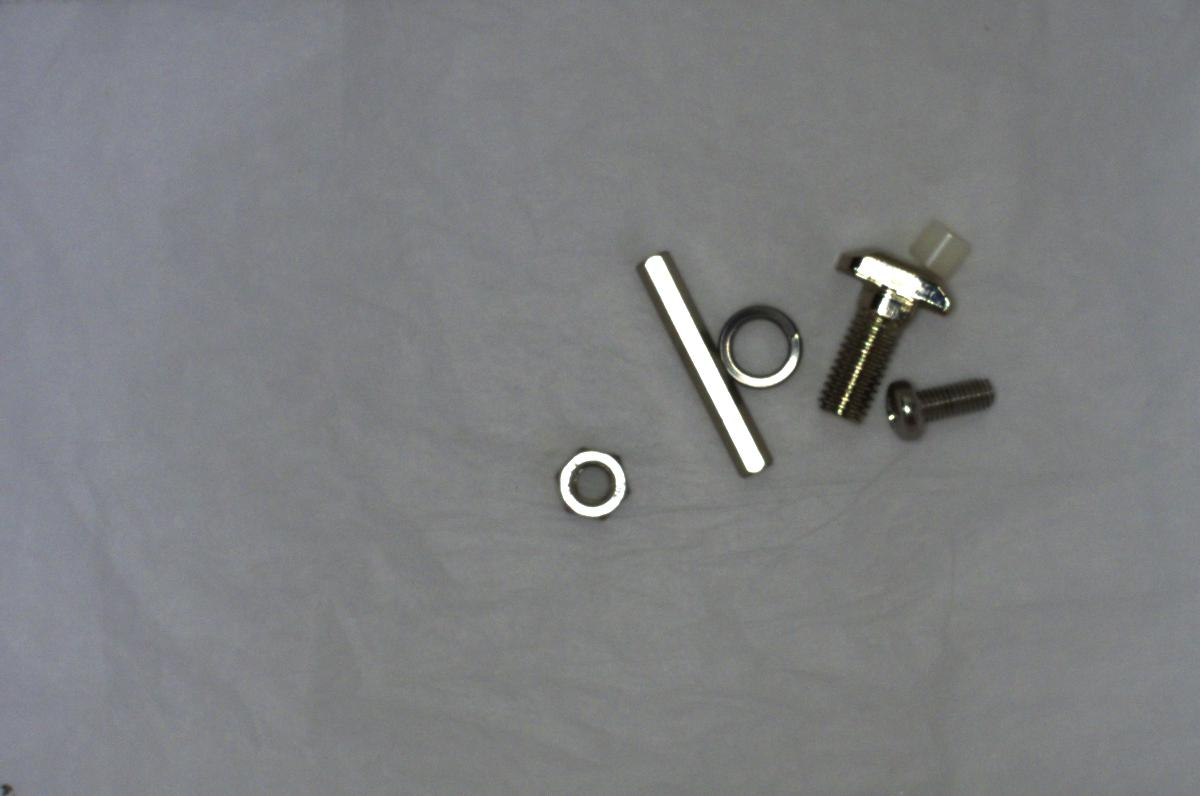Double hexagonal column: (632, 240, 774, 483)
Hexagon nut: (546, 440, 641, 523)
Plastic cushion pillar: (901, 212, 978, 285)
Round head screw: (878, 358, 1003, 450)
Spring washer: (712, 292, 811, 398)
T-shaped screw: (810, 237, 960, 418)
